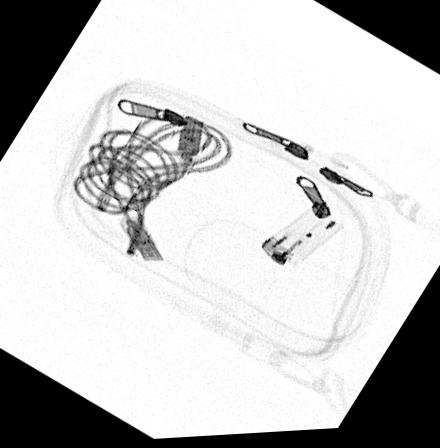Lighter: (258, 206, 343, 271)
